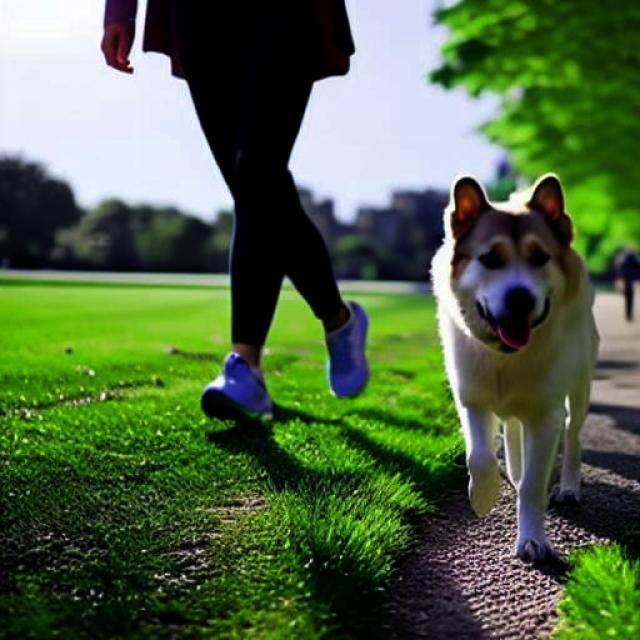Unleashed_Dog: (174, 22, 602, 563)
